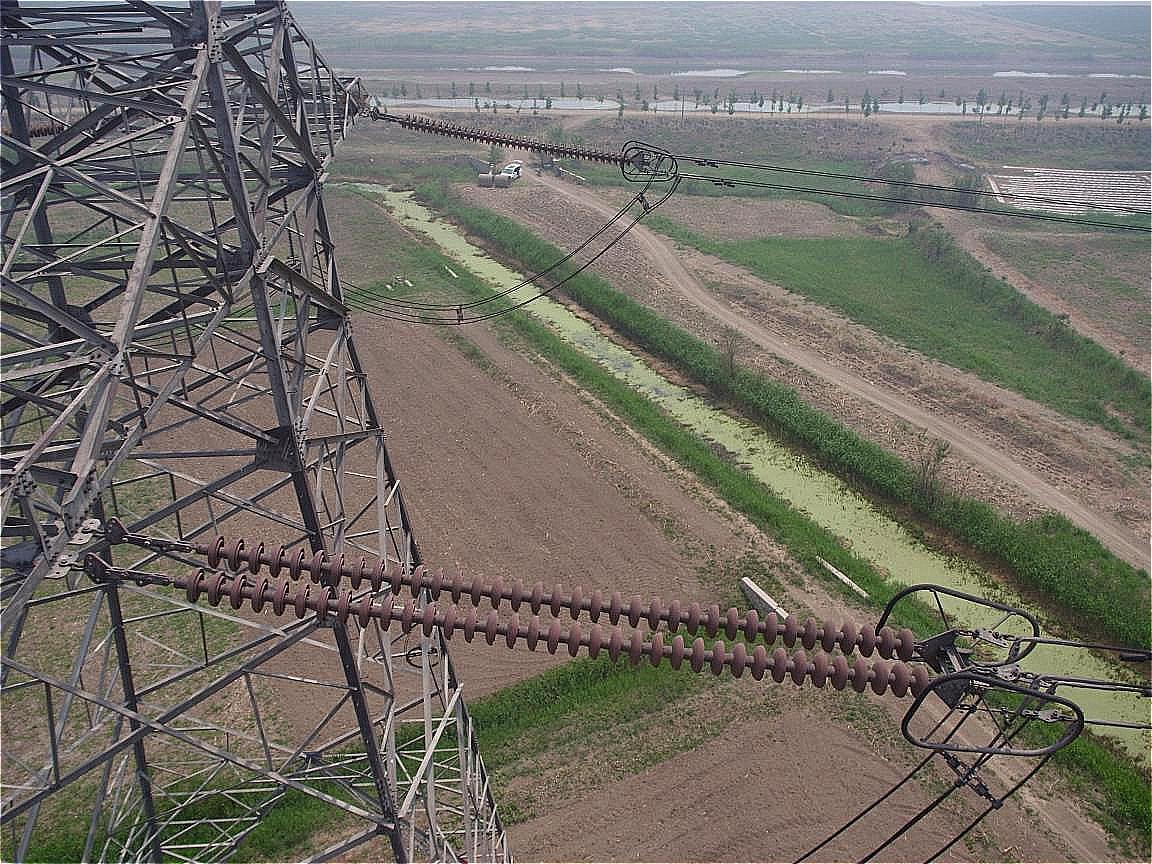insultor1: (149, 528, 950, 706)
insultor2: (389, 111, 649, 174)
